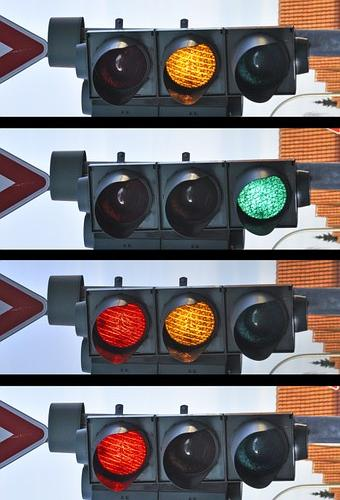trafic: (90, 418, 298, 487), (87, 290, 295, 359), (95, 161, 303, 230), (89, 31, 297, 100)
